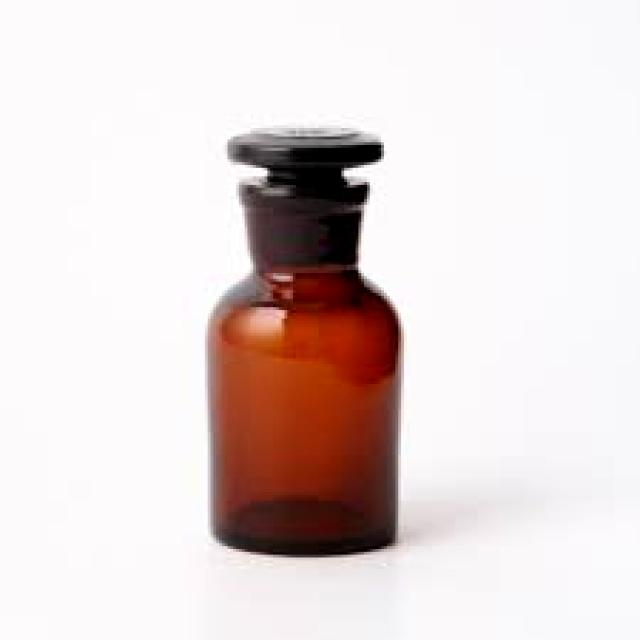Glass: (206, 177, 410, 558)
